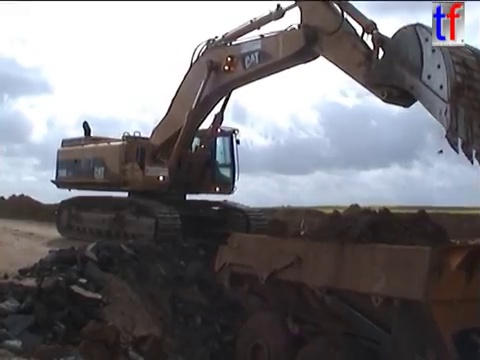excavator: (46, 1, 480, 251)
truck: (211, 211, 480, 360)
